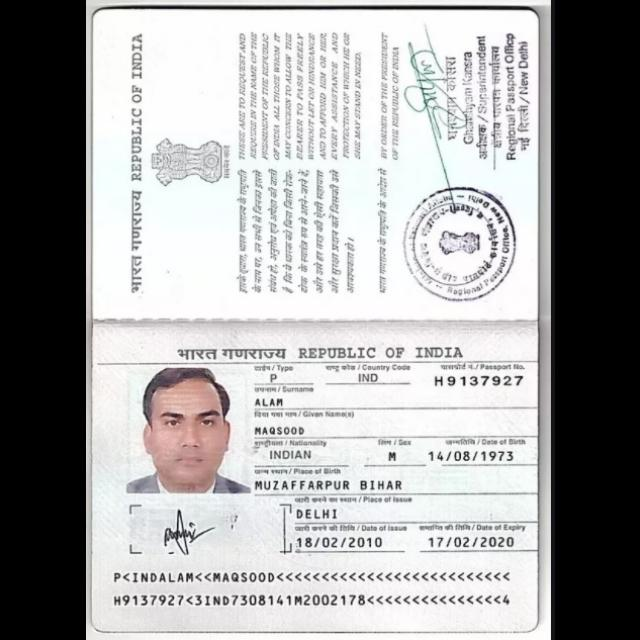passport: (90, 313, 544, 637)
